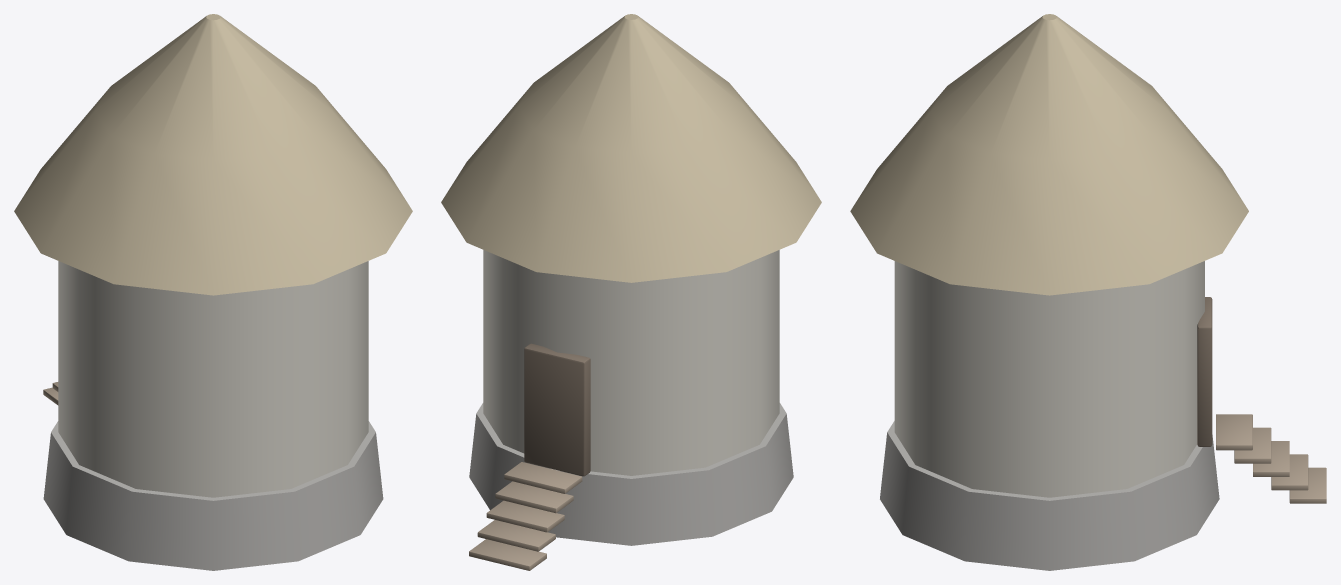
File: granary.gltf
The picture shows the model from 3 angles, left to right: view 1: azimuth 30°, elevation 25°; view 2: azimuth 150°, elevation 25°; view 3: azimuth 270°, elevation 25°; orthographic projection. The views are drawn at different scales.
Parts seen in each view (by area): view 1: Body; view 2: Body; view 3: Body.
Boxes of the visible parts, bbox=[...] form: Body: bbox=[14, 14, 412, 570]; Body: bbox=[441, 14, 821, 570]; Body: bbox=[850, 14, 1326, 570].
Size of the model in its own units: 5.4 by 7.2 by 6.45.
